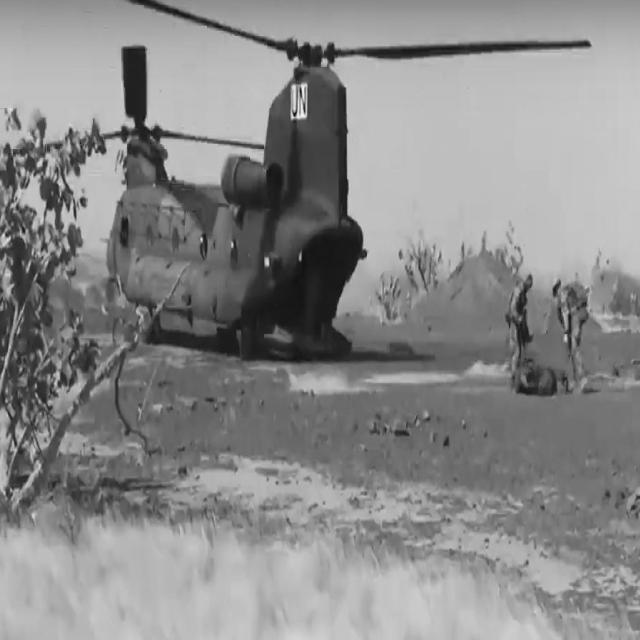Helicopter: (106, 0, 590, 358)
